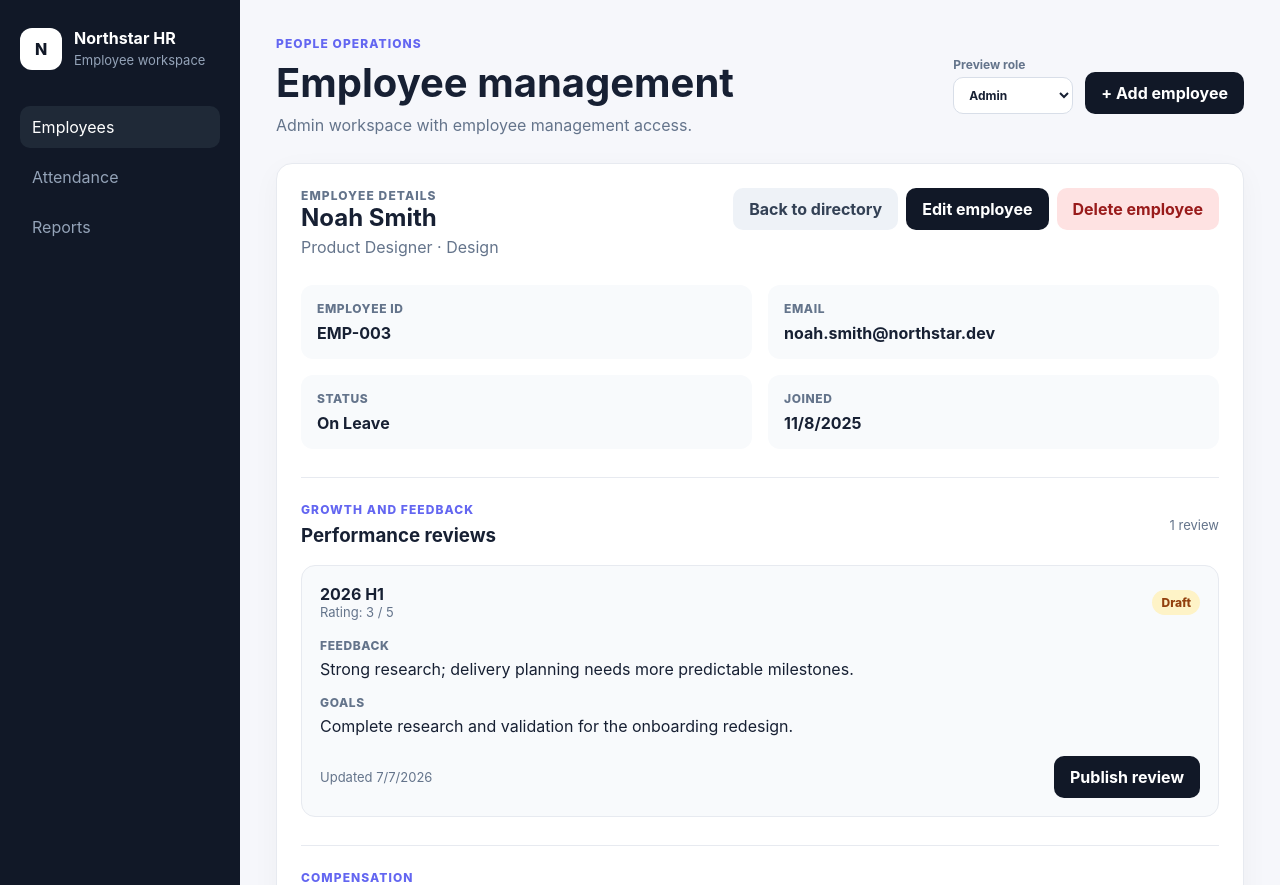
Test case: hides draft reviews and review controls from employee mode
Expected: the heading "Noah Smith" is shown, [301, 203, 437, 232]
Select "Employee" in the dropdown labelled "Preview role" at (1013, 96), box [953, 77, 1073, 114]
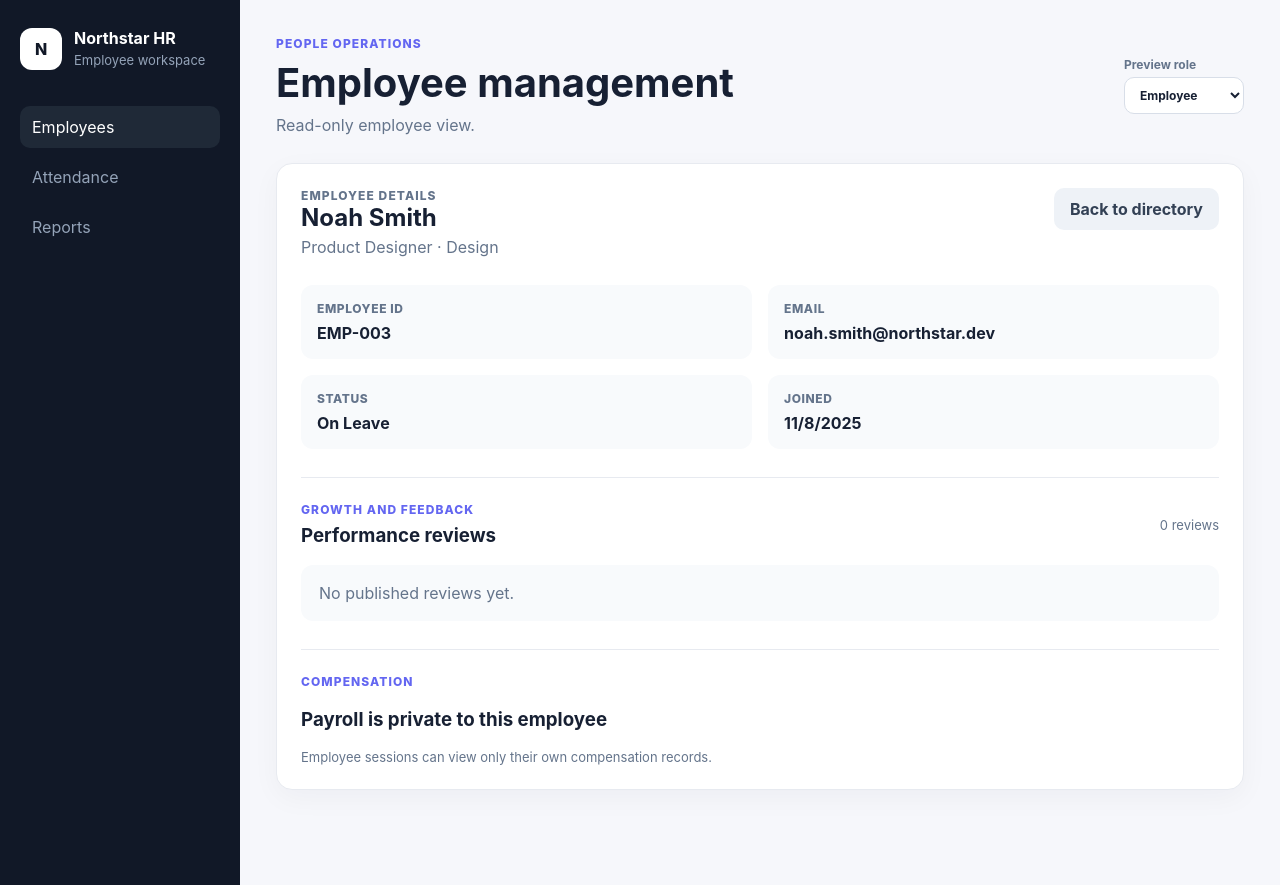
Expected: the heading "Performance reviews" is shown, [301, 524, 496, 547]
Expected: the text "No published reviews yet." is shown, [301, 565, 1219, 621]
Expected: the text "Draft" is gone
